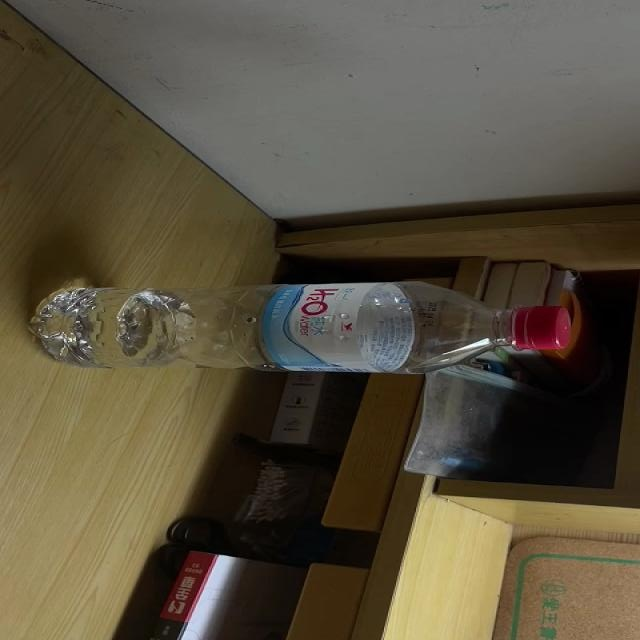Water: (30, 279, 569, 374)
